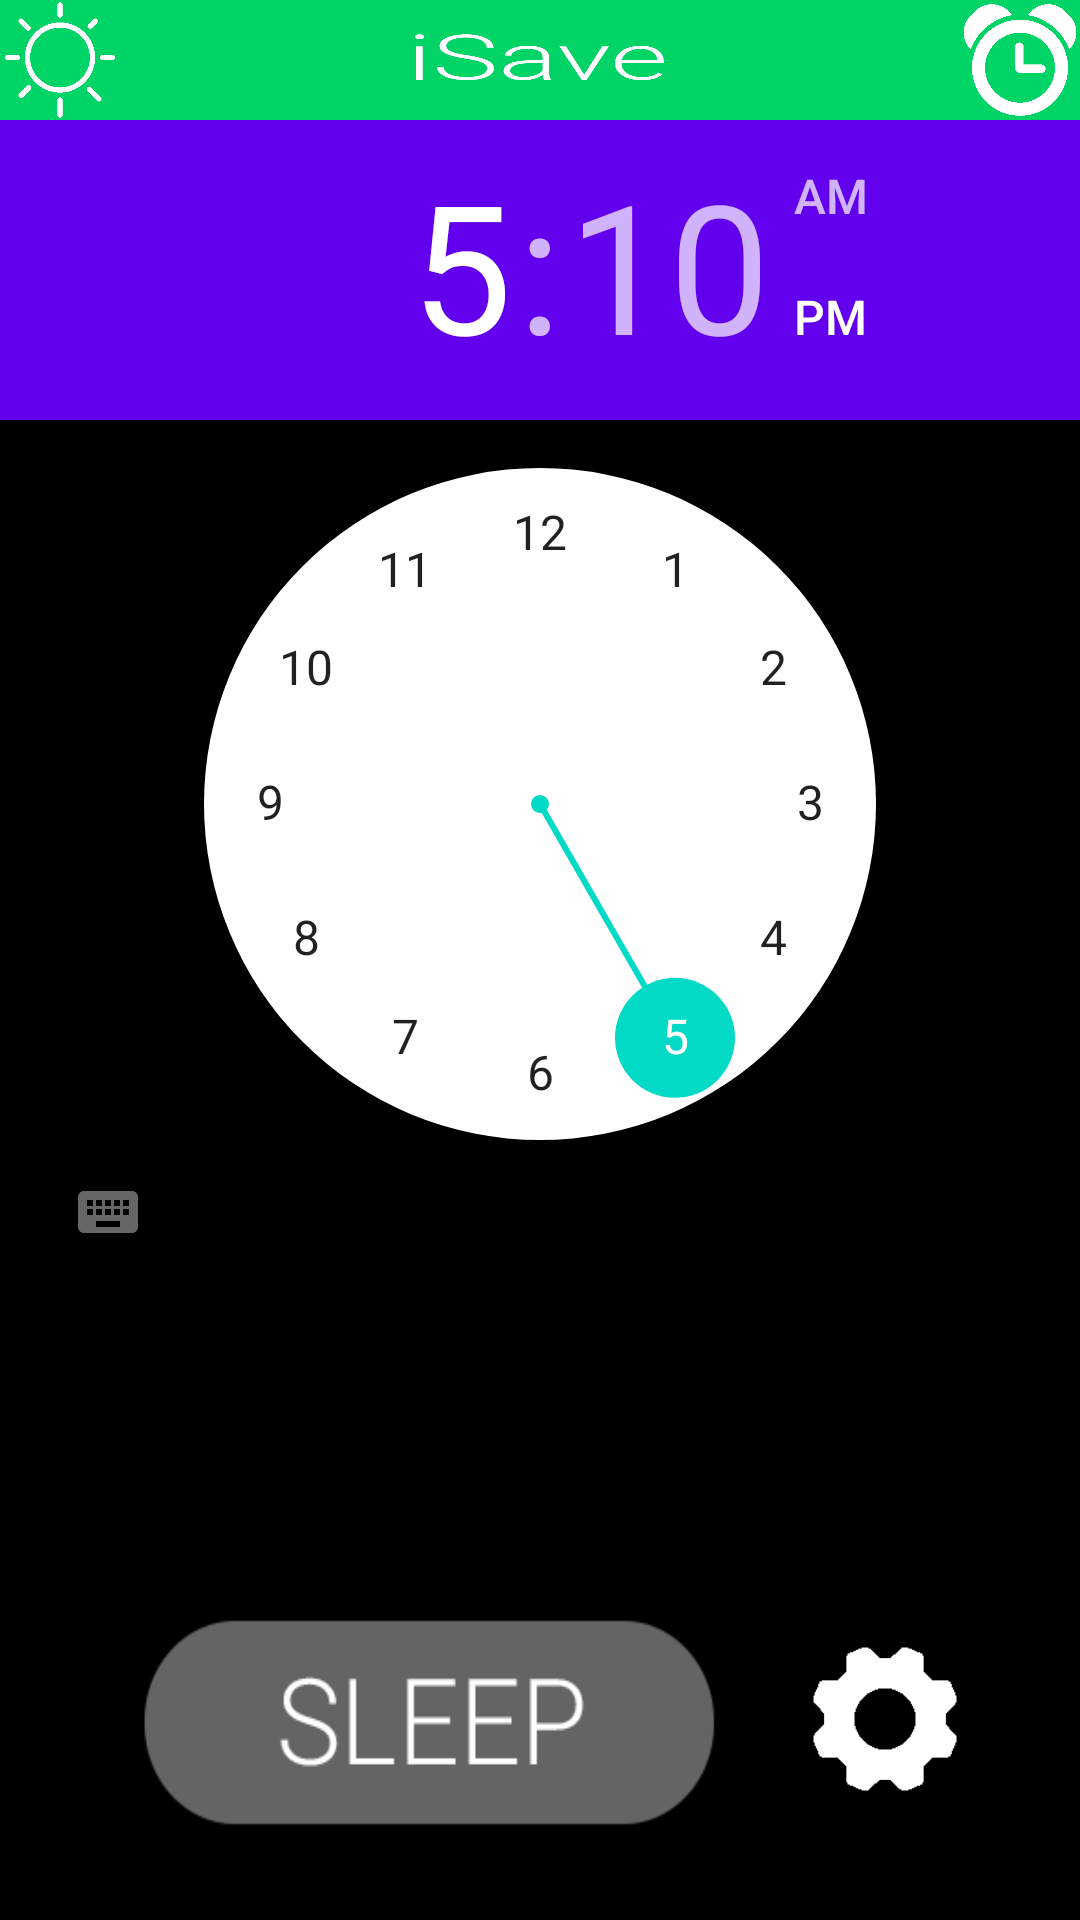

Where to tap for icons on this 1080px x 1920px app screen, as (x,y):
clock: (1020,60)
settings: (885,1719)
sun: (60,60)
